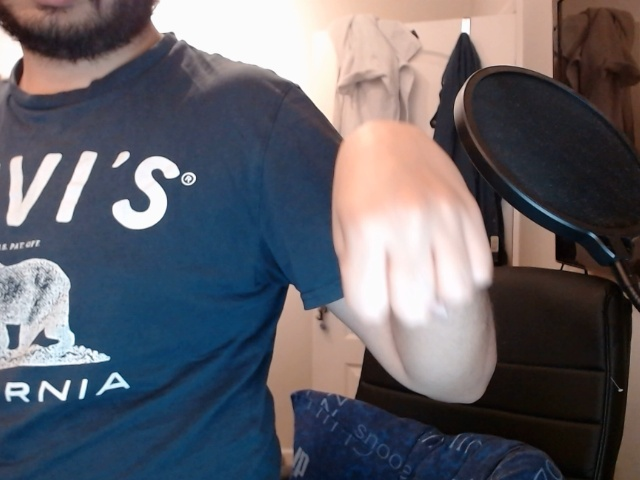Yes: (322, 109, 498, 327)
